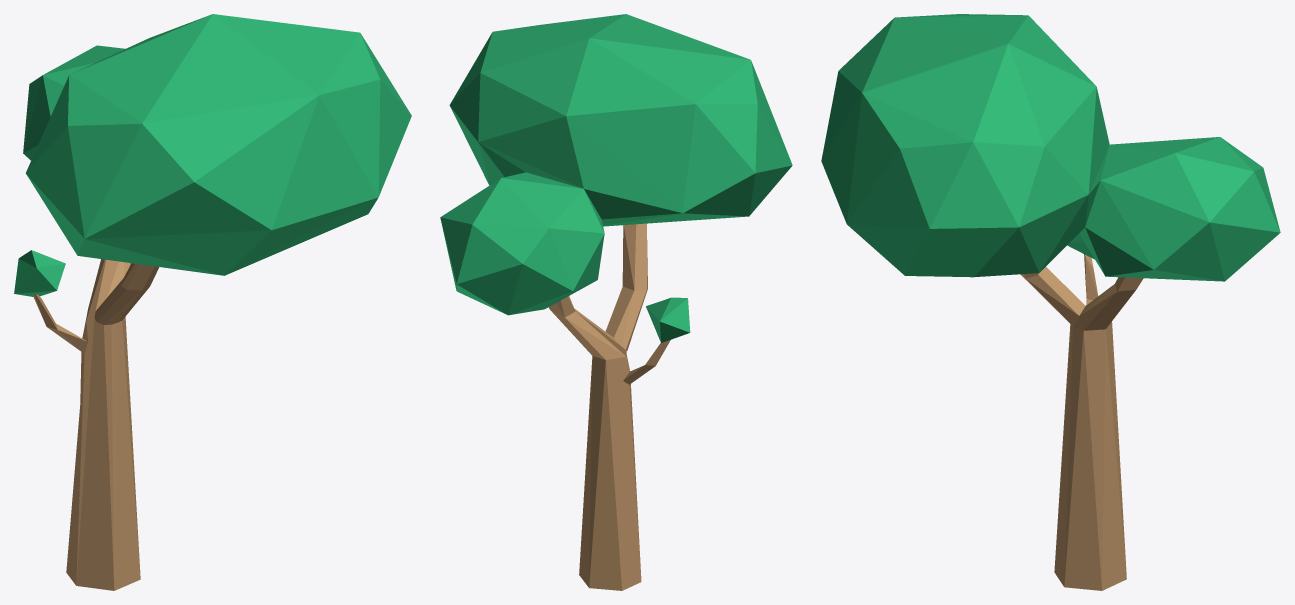
Rendered from lowPolyTree2.gltf.
3 renders of one model, left to right at view 1: azimuth 30°, elevation 25°; view 2: azimuth 150°, elevation 25°; view 3: azimuth 270°, elevation 25°, orthographic. The views are drawn at different scales.
Parts seen in each view (by area): view 1: Tree; view 2: Tree; view 3: Tree.
Boxes of the visible parts, x1=… form: Tree: x1=14, y1=14, x2=411, y2=590; Tree: x1=440, y1=14, x2=792, y2=590; Tree: x1=821, y1=14, x2=1280, y2=590.
Size of the model in its own units: 9.24 by 14.6 by 10.76.
1 material, 1 textured.
